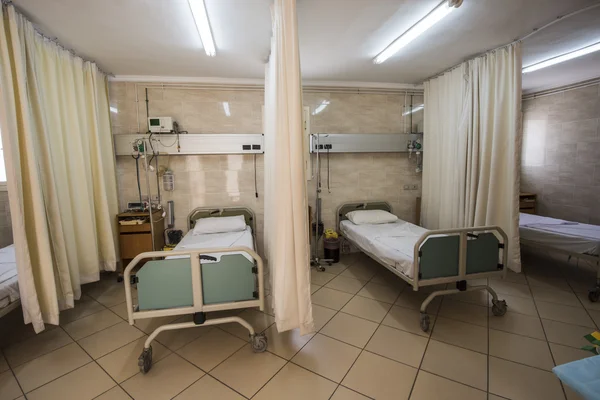bedside_table: (117, 208, 166, 261)
curtain: (1, 1, 120, 334), (423, 38, 524, 281), (261, 1, 313, 338)
foot_board: (123, 245, 266, 326), (411, 225, 508, 292)
hospital_bed: (334, 199, 509, 333), (123, 206, 259, 373), (513, 210, 599, 302), (1, 239, 90, 326)
iv_pole: (307, 133, 333, 272), (131, 131, 159, 206)
